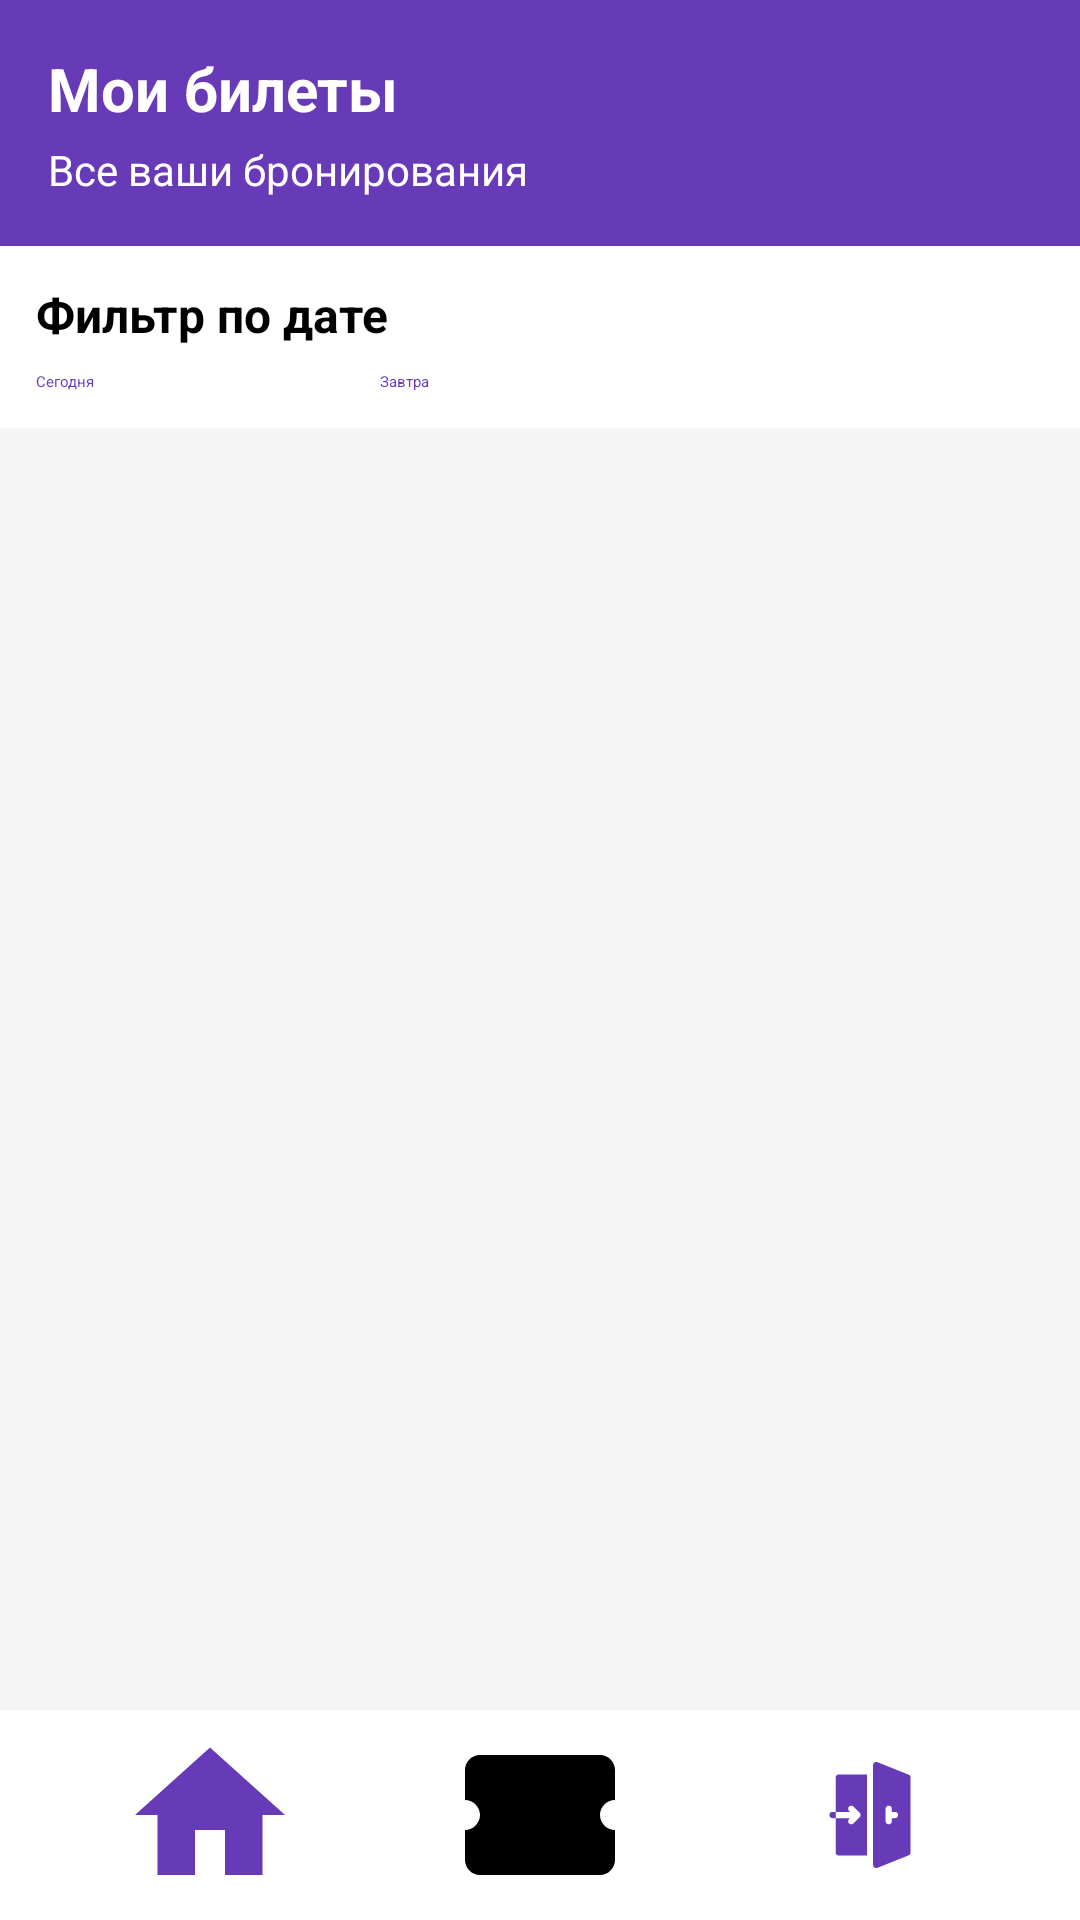

Screen size 1080 x 1920. Icon name, then its box in pixels as (x1, y1, x2, y2):
Выйти: (829, 1762, 911, 1868)
Главная: (135, 1747, 285, 1875)
Мои бронирования: (465, 1755, 615, 1875)
